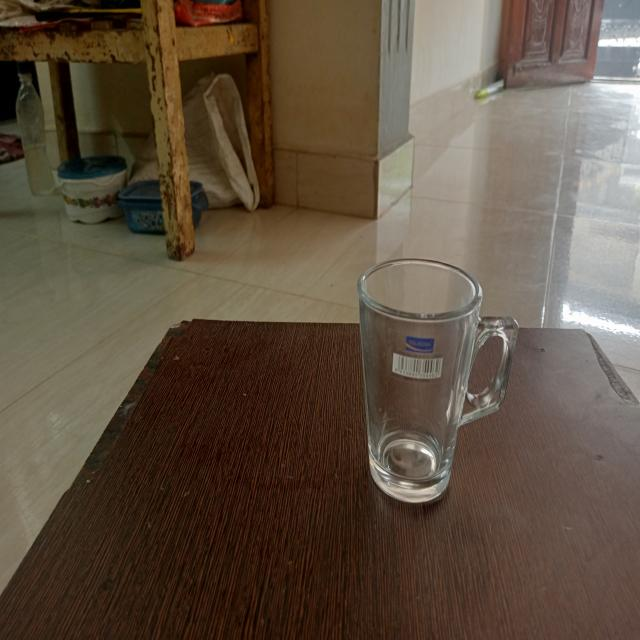glass-VX4N: (360, 254, 514, 507)
